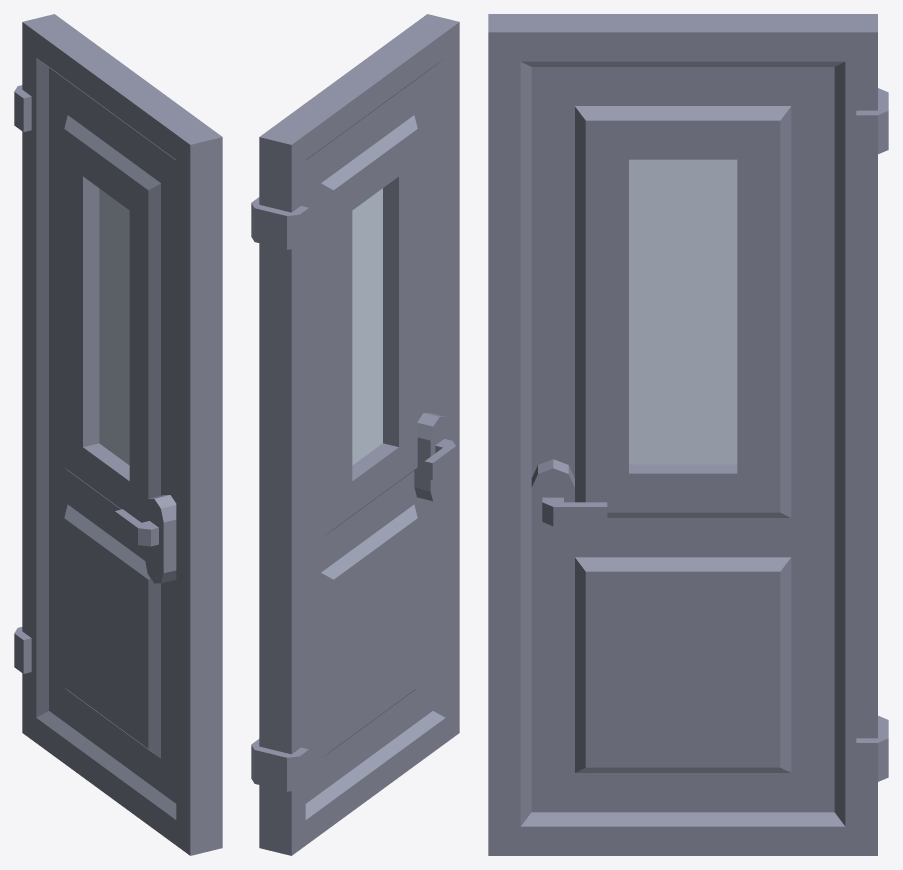
Rendered from door-rotate-square-d.obj.
The picture shows the model from 3 angles, left to right: view 1: azimuth 30°, elevation 25°; view 2: azimuth 150°, elevation 25°; view 3: azimuth 270°, elevation 25°; orthographic projection. The views are drawn at different scales.
Size of the model in its own units: 0.25 by 2.1 by 0.925.
